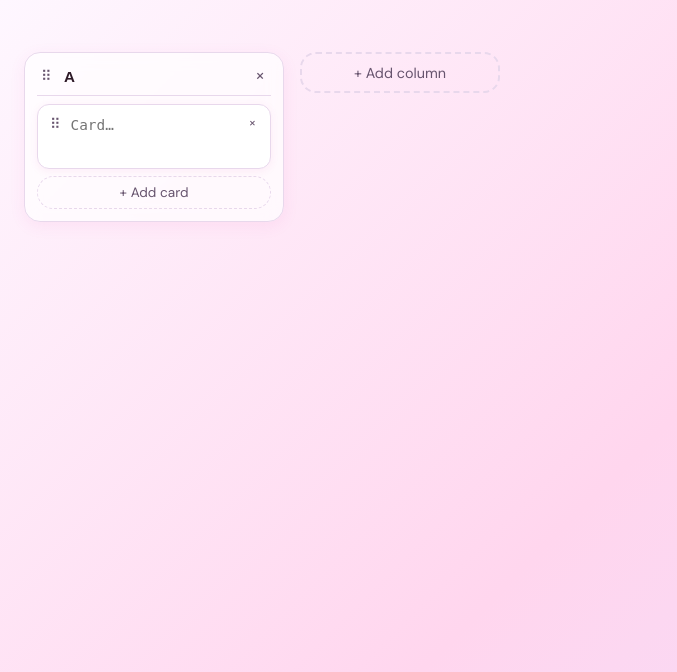
Scenario: drag ghost › labels a blank card rather than showing an empty ghost
Press the mouse on the 2nd button with class "handle" at [55, 124], box [50, 115, 60, 133]
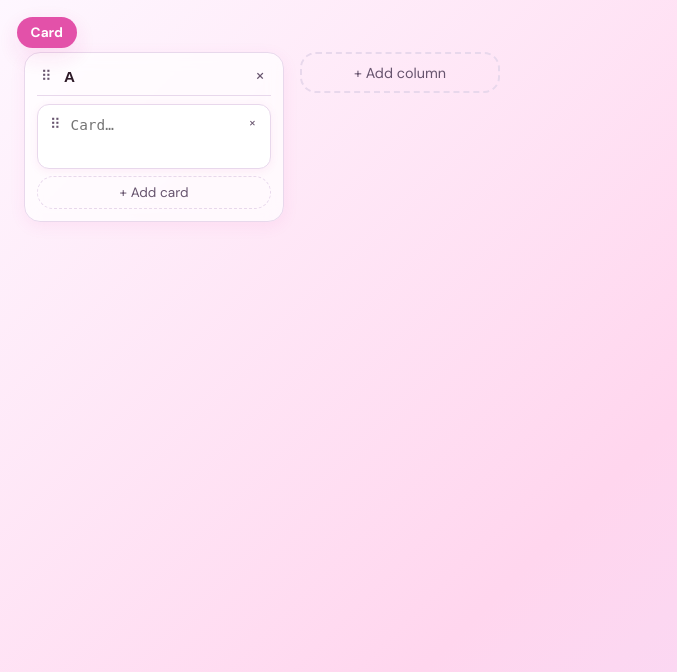
Result: the text with class "ghost" reads "Card" at [31, 24, 63, 41]
